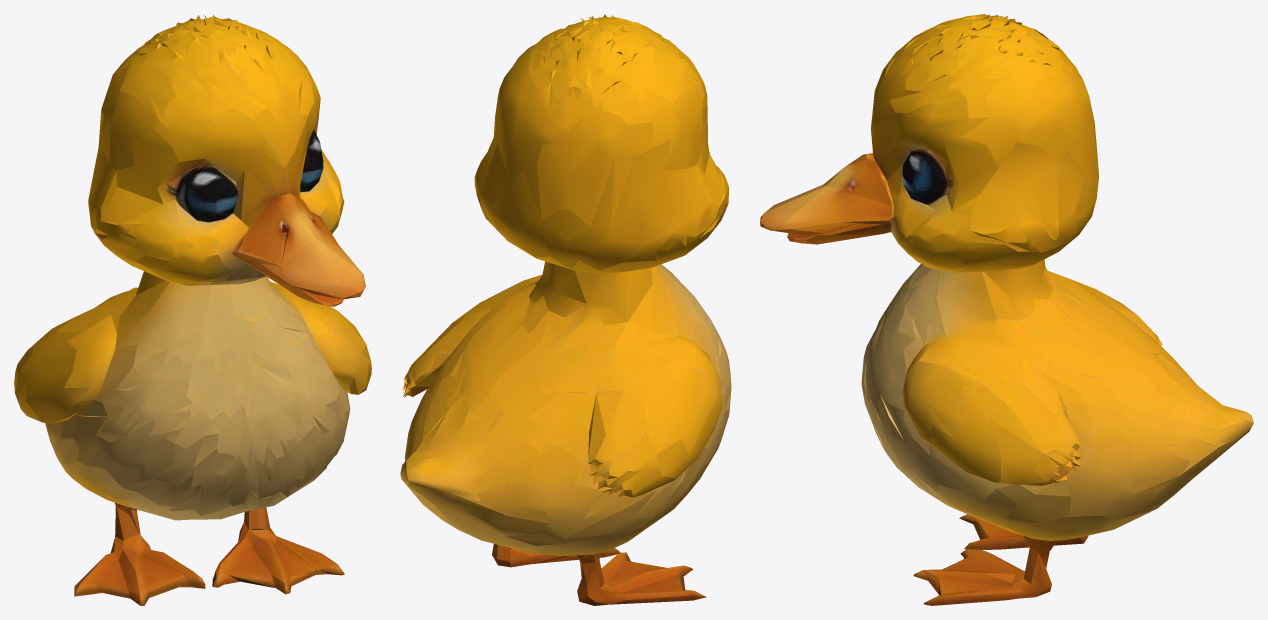
File: duckling.glb
The picture shows the model from 3 angles, left to right: view 1: azimuth 30°, elevation 25°; view 2: azimuth 150°, elevation 25°; view 3: azimuth 270°, elevation 25°; orthographic projection. The views are drawn at different scales.
Size of the model in its own units: 1.1 by 1.9 by 1.58.
1 material, 1 textured.
